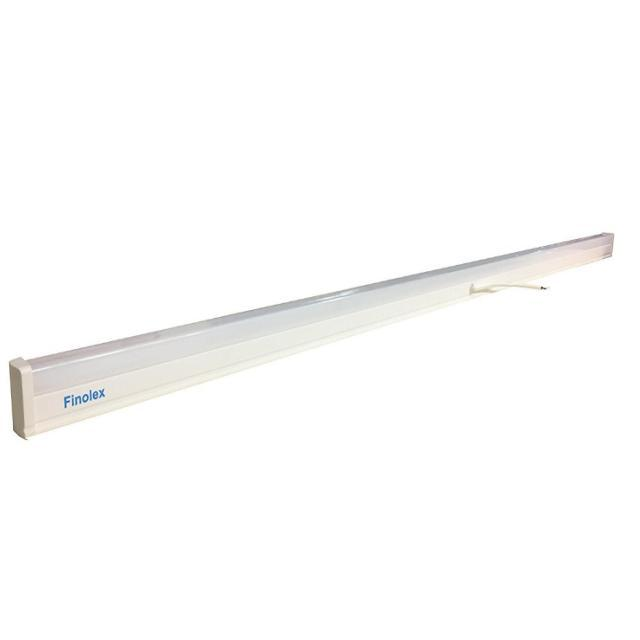tubelight_off: (3, 226, 618, 453)
